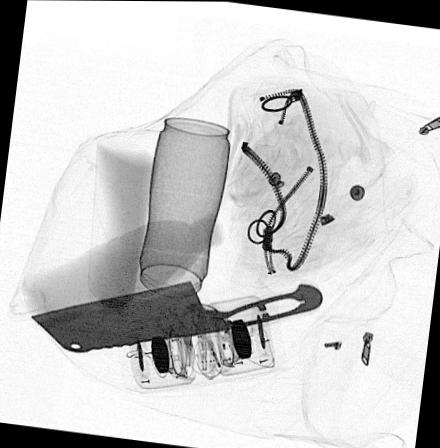Knife: (28, 277, 324, 353)
